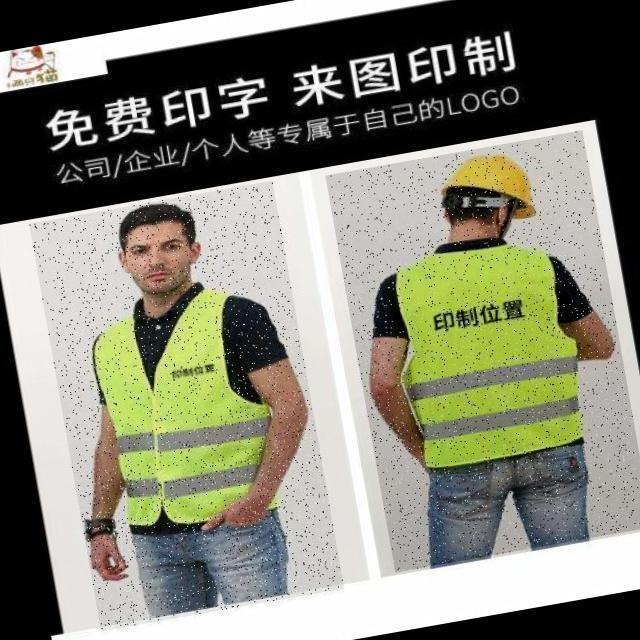Helmet: (440, 138, 546, 228)
Person: (55, 174, 352, 625), (383, 106, 613, 568)
Safety Vest: (80, 276, 291, 544), (379, 230, 593, 479)
bare-arms: (203, 495, 280, 563), (64, 534, 134, 592)
no-helmet: (114, 213, 195, 260)
